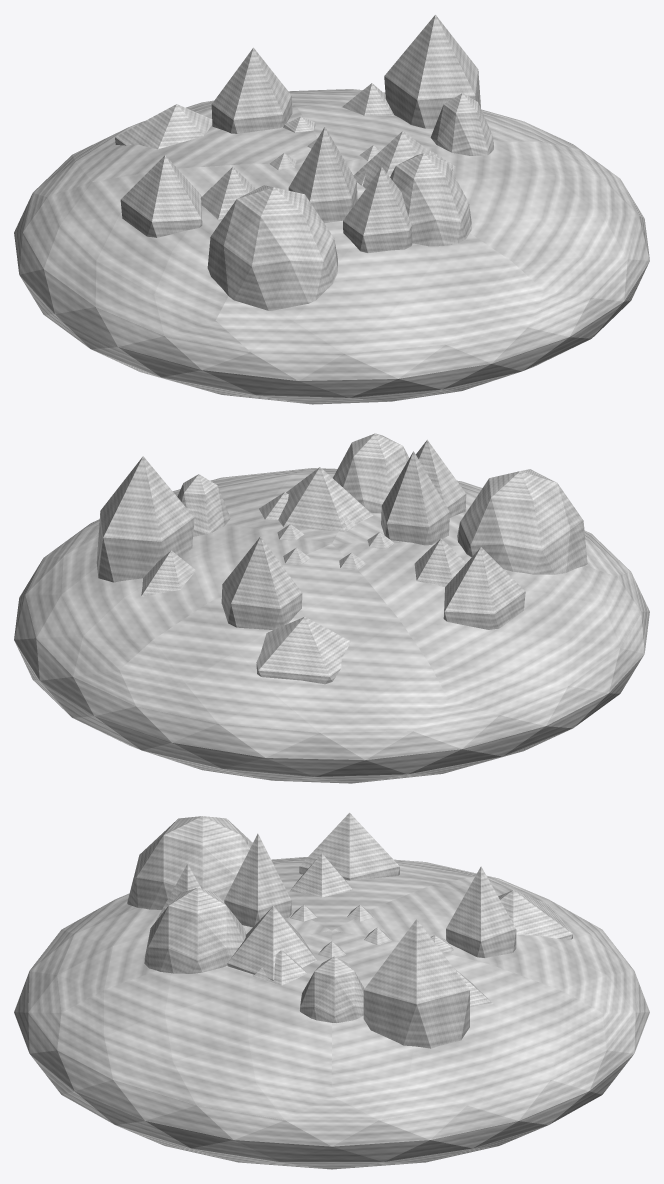
Rendered from caterium_ore_node_variant_d.glb.
3 views of the same model, one above another, from view 1: azimuth 30°, elevation 25°; view 2: azimuth 150°, elevation 25°; view 3: azimuth 270°, elevation 25° (orthographic).
Visible parts, largest first — view 1: Resource node bedrock.003, Exposed ore formation.043, Exposed ore formation.035, Exposed ore formation.046, Exposed ore formation.038, Exposed ore formation.041, Exposed ore formation.045, Exposed ore formation.044, Exposed ore formation.034, Exposed ore formation.039, Exposed ore formation.047, Exposed ore formation.042 (+1 smaller); view 2: Resource node bedrock.003, Exposed ore formation.043, Exposed ore formation.035, Exposed ore formation.038, Exposed ore formation.041, Exposed ore formation.039, Exposed ore formation.044, Exposed ore formation.046, Exposed ore formation.047, Exposed ore formation.034, Exposed ore formation.045, Exposed ore formation.042 (+1 smaller); view 3: Resource node bedrock.003, Exposed ore formation.035, Exposed ore formation.043, Exposed ore formation.046, Exposed ore formation.038, Exposed ore formation.044, Exposed ore formation.041, Exposed ore formation.034, Exposed ore formation.047, Exposed ore formation.039, Exposed ore formation.042, Exposed ore formation (+1 smaller).
Part boxes in pixels (box(x1,y1,x2,y2)): Resource node bedrock.003: box(14, 89, 649, 404); Exposed ore formation.043: box(207, 185, 337, 310); Exposed ore formation.035: box(384, 14, 480, 128); Exposed ore formation.046: box(390, 153, 471, 246); Exposed ore formation.038: box(211, 47, 292, 133); Exposed ore formation.041: box(120, 155, 202, 237); Exposed ore formation.045: box(343, 167, 412, 252); Exposed ore formation.044: box(288, 127, 357, 223); Exposed ore formation.034: box(430, 93, 493, 155); Exposed ore formation.039: box(115, 104, 212, 149); Exposed ore formation.047: box(353, 131, 452, 188); Exposed ore formation.042: box(200, 167, 255, 219); Resource node bedrock.003: box(14, 468, 649, 783); Exposed ore formation.043: box(457, 469, 587, 574); Exposed ore formation.035: box(96, 456, 194, 582); Exposed ore formation.038: box(221, 536, 302, 629); Exposed ore formation.041: box(443, 547, 525, 629); Exposed ore formation.039: box(256, 616, 350, 684); Exposed ore formation.044: box(381, 451, 449, 545); Exposed ore formation.046: box(333, 433, 409, 513); Exposed ore formation.047: box(278, 467, 373, 531); Exposed ore formation.034: box(177, 474, 230, 536); Exposed ore formation.045: box(416, 440, 466, 517); Exposed ore formation.042: box(414, 538, 466, 586); Resource node bedrock.003: box(14, 857, 649, 1169); Exposed ore formation.035: box(363, 919, 469, 1048); Exposed ore formation.043: box(127, 816, 252, 909); Exposed ore formation.046: box(144, 887, 245, 973); Exposed ore formation.038: box(446, 866, 516, 957); Exposed ore formation.044: box(224, 833, 291, 927); Exposed ore formation.041: box(299, 812, 399, 880); Exposed ore formation.034: box(300, 956, 364, 1022); Exposed ore formation.047: box(227, 906, 316, 980); Exposed ore formation.039: box(498, 890, 572, 939); Exposed ore formation.042: box(289, 853, 353, 897); Exposed ore formation: box(253, 950, 306, 985).
Size of what is drawn, in the model's own units: 6 by 2.56 by 6.
Materials: 2 (2 with a texture image).
